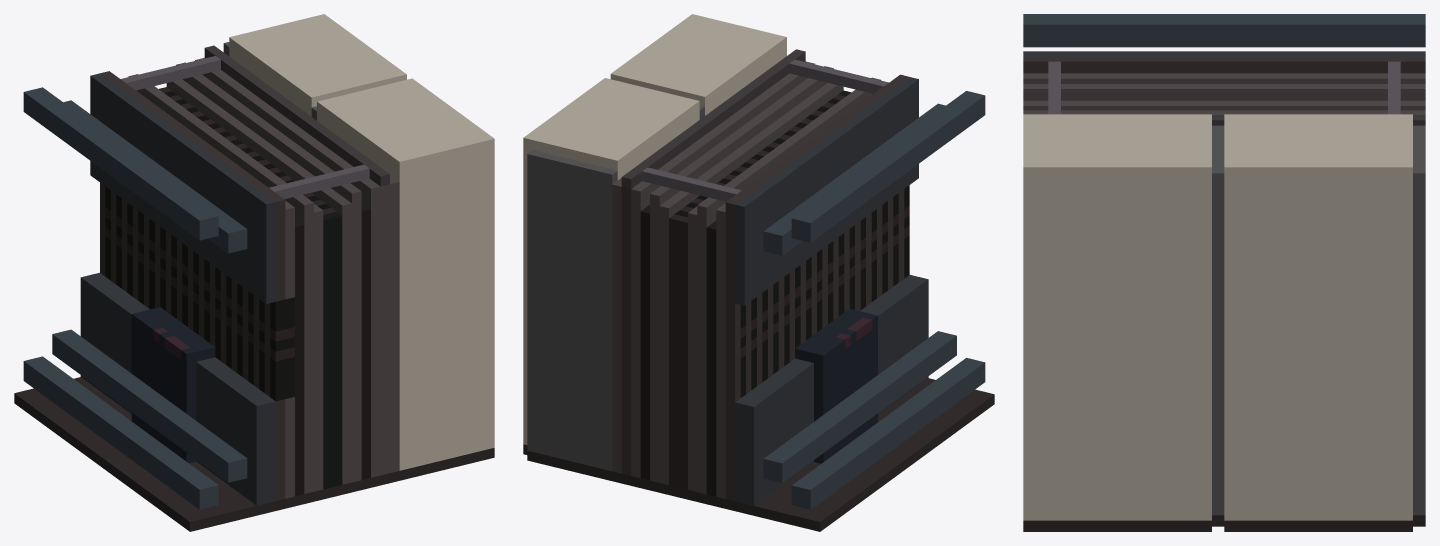
File: tile01.obj
3 renders of one model, left to right at view 1: azimuth 30°, elevation 25°; view 2: azimuth 150°, elevation 25°; view 3: azimuth 270°, elevation 25°, orthographic. The views are drawn at different scales.
Size of the model in its own units: 32 by 32 by 32.
Materials: 1 (1 with a texture image).
